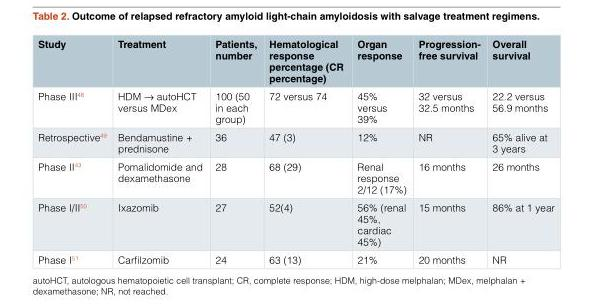table: (37, 37, 553, 265)
table column: (111, 37, 208, 265), (262, 37, 349, 265), (37, 37, 111, 265), (411, 37, 485, 265), (485, 37, 553, 265), (349, 37, 411, 265), (208, 37, 262, 265)
table column header: (37, 37, 553, 86)
table row: (37, 197, 553, 250), (37, 37, 553, 86), (37, 86, 553, 127), (37, 156, 553, 197), (37, 127, 553, 156), (37, 250, 553, 265)
